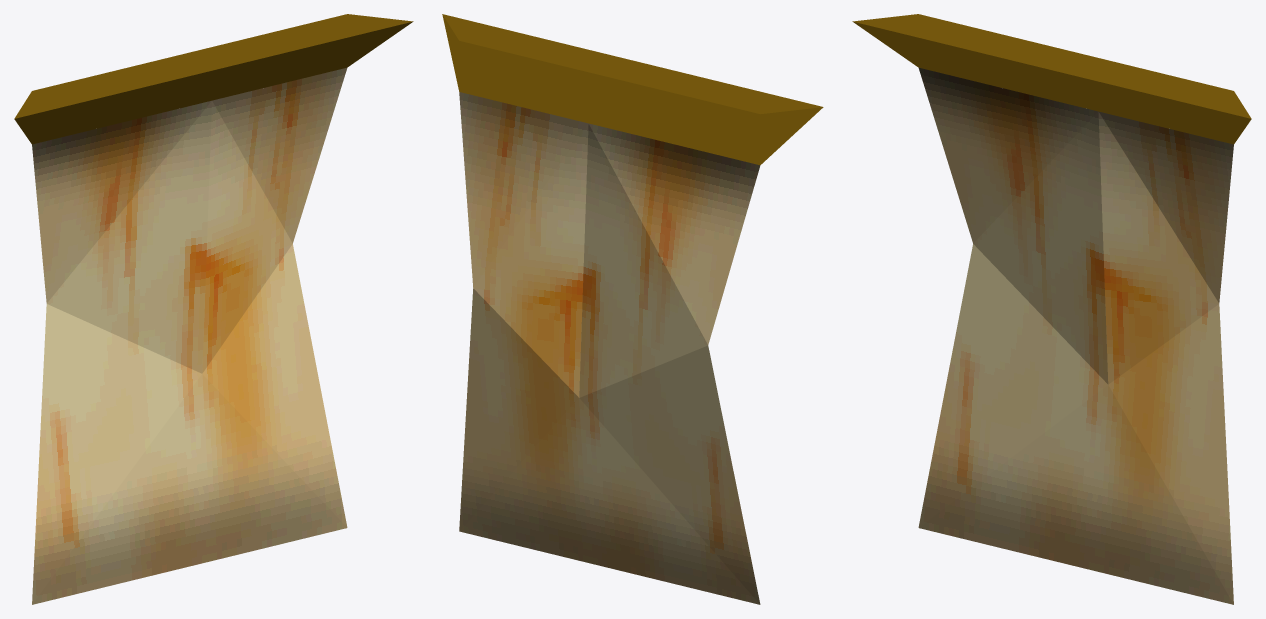
File: W_A1_x [Schiff]_1231.glb
The picture shows the model from 3 angles, left to right: view 1: azimuth 30°, elevation 25°; view 2: azimuth 150°, elevation 25°; view 3: azimuth 330°, elevation 25°; orthographic projection. The views are drawn at different scales.
Visible parts, largest first — view 1: polySurfaceShape1201, polySurfaceShape1203; view 2: polySurfaceShape1201, polySurfaceShape1203; view 3: polySurfaceShape1201, polySurfaceShape1203.
Boxes of the visible parts, box(x1,y1,x2,y2) form: polySurfaceShape1201: box(32, 68, 347, 604); polySurfaceShape1203: box(14, 14, 413, 144); polySurfaceShape1201: box(459, 92, 760, 604); polySurfaceShape1203: box(442, 14, 823, 165); polySurfaceShape1201: box(918, 68, 1233, 604); polySurfaceShape1203: box(852, 14, 1251, 144).
Size of the model in its own units: 0.3166 by 0.3891 by 0.0607.
2 materials, 1 textured.
